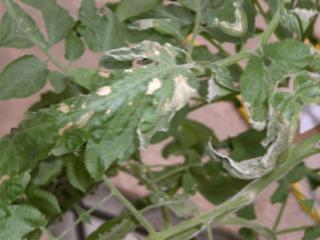Tomato leaf bacterial spot: (11, 8, 218, 206)
